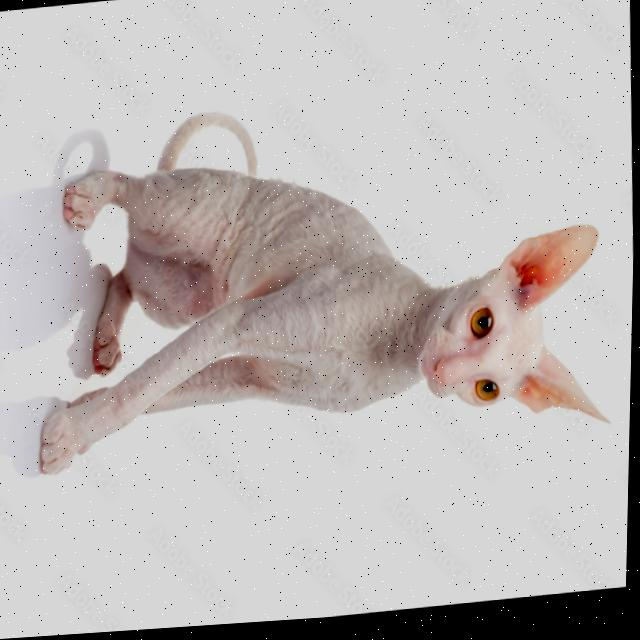Cornish Rex: (21, 71, 624, 487)
